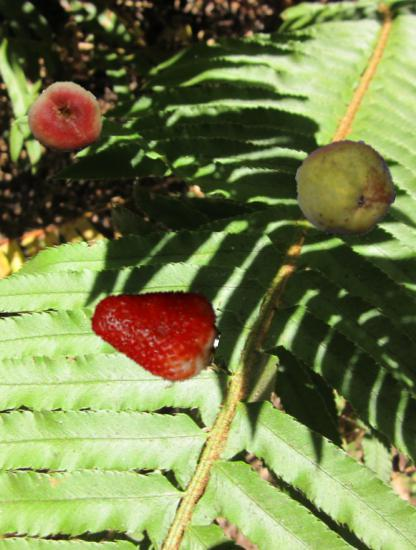Peach: (29, 83, 104, 158)
Pear: (294, 138, 396, 240)
Strawberry: (89, 263, 220, 394)
